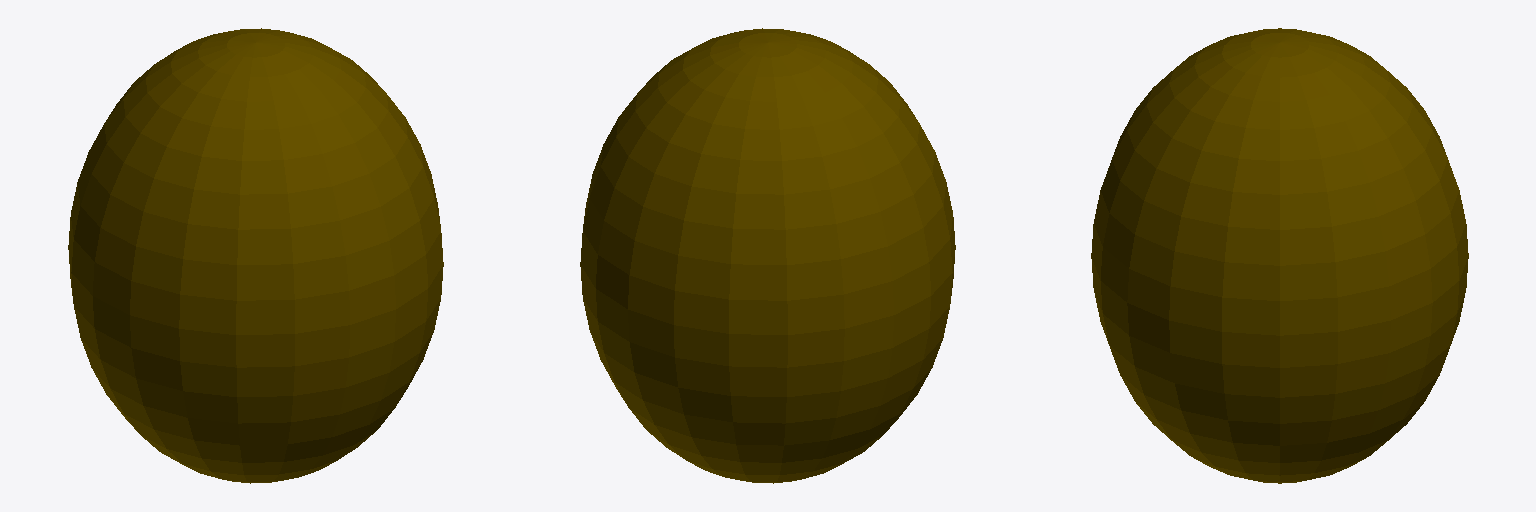
The model's file is Gold.obj.
The picture shows the model from 3 angles: view 1: azimuth 30°, elevation 25°; view 2: azimuth 150°, elevation 25°; view 3: azimuth 270°, elevation 25°; orthographic projection.
Visible parts, largest first — view 1: Blue:pSphere1; view 2: Blue:pSphere1; view 3: Blue:pSphere1.
Boxes of the visible parts, <box> form: Blue:pSphere1: <box>68,28,443,483</box>; Blue:pSphere1: <box>580,28,955,483</box>; Blue:pSphere1: <box>1091,28,1468,483</box>.
Bounding box in the file's own units: 1.6 × 2 × 1.6.